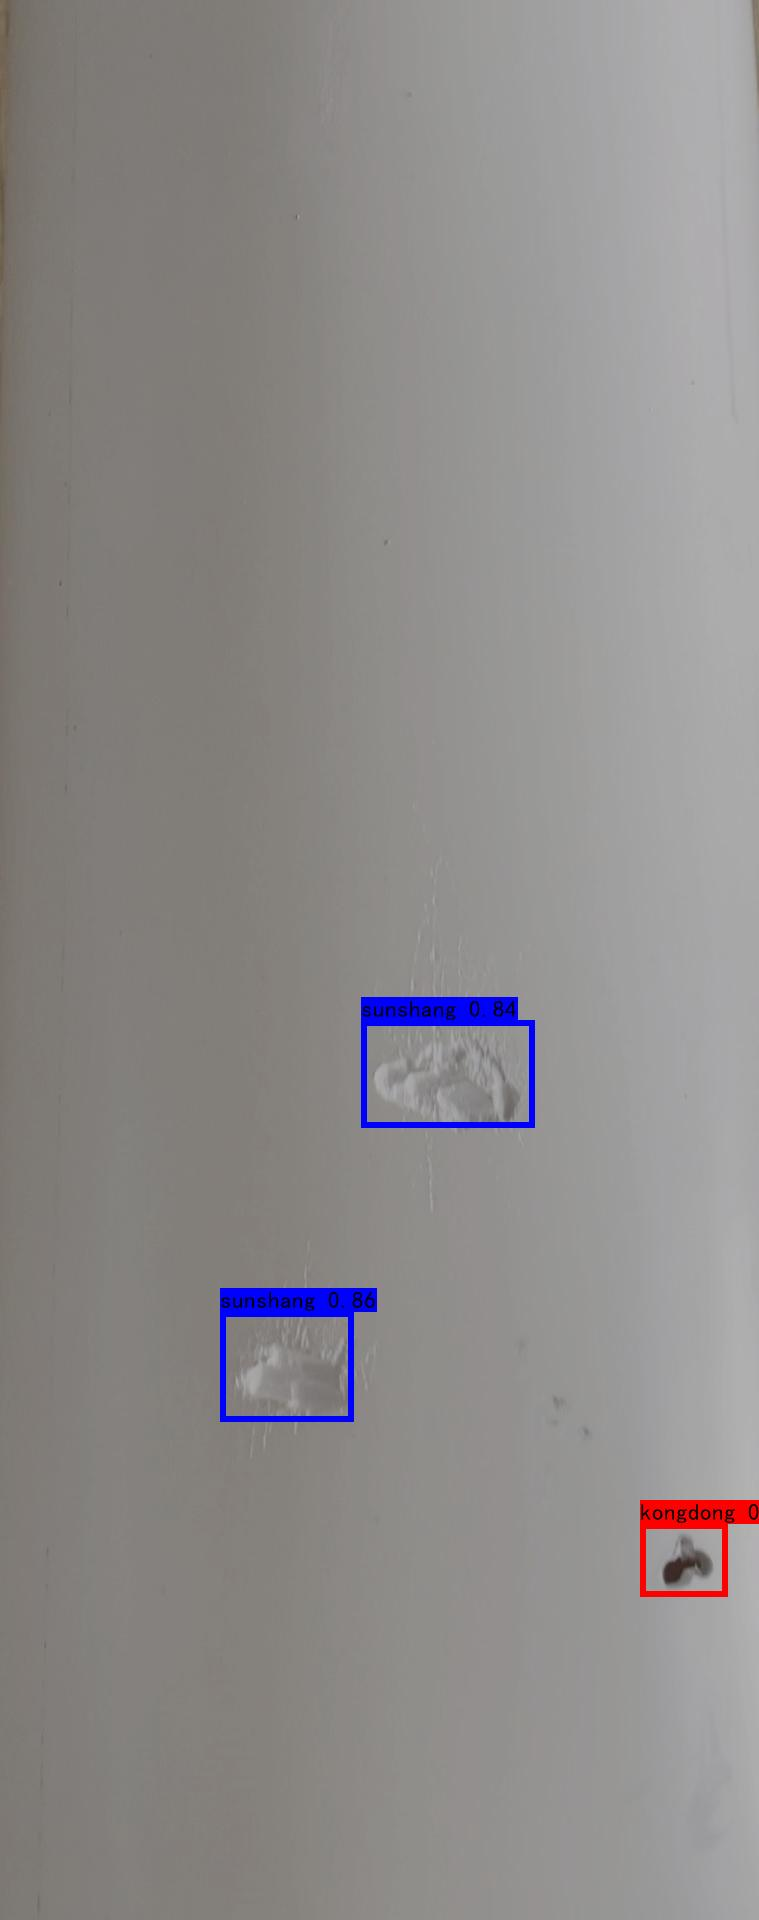kongdong: (648, 1531, 728, 1600)
sunshang: (367, 1013, 531, 1151), (233, 1318, 365, 1431)
